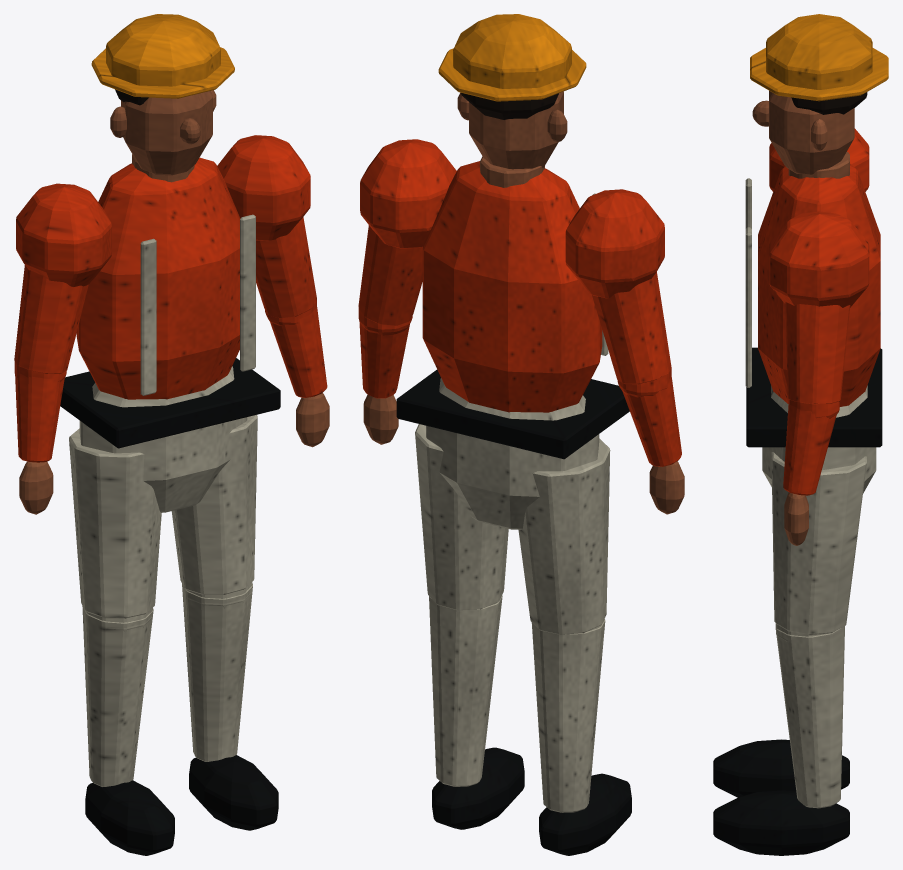
File: PROP-E46F27058B0F_lod1.glb
3 views of the same model, side by side, from view 1: azimuth 30°, elevation 25°; view 2: azimuth 150°, elevation 25°; view 3: azimuth 270°, elevation 25° (orthographic). The views are drawn at different scales.
Parts seen in each view (by area): view 1: torso.034, thigh.033, calf.033, shoulder.034, upper_arm.034, shoe.033, belt.033, pelvis.033, hardhat.010, forearm.034, head.033, vest_reflective_tape.010 (+4 smaller); view 2: torso.034, thigh.033, calf.033, shoulder.034, upper_arm.034, pelvis.033, shoe.033, belt.033, hardhat.010, forearm.034, head.033, hand.033 (+5 smaller); view 3: torso.034, thigh.033, shoe.033, calf.033, shoulder.034, hardhat.010, upper_arm.034, belt.033, head.033, forearm.034, hardhat_brim.010, pelvis.033 (+7 smaller).
Part boxes in pixels (x1,y1,x2,y2): torso.034: [76, 157, 240, 399]; thigh.033: [69, 414, 257, 618]; calf.033: [82, 583, 252, 786]; shoulder.034: [16, 135, 310, 286]; upper_arm.034: [14, 217, 316, 373]; shoe.033: [85, 755, 278, 855]; belt.033: [60, 358, 280, 448]; pelvis.033: [79, 366, 247, 512]; hardhat.010: [106, 14, 220, 86]; forearm.034: [15, 307, 327, 462]; head.033: [121, 91, 212, 175]; vest_reflective_tape.010: [140, 214, 255, 395]; torso.034: [422, 161, 602, 412]; thigh.033: [415, 424, 610, 634]; calf.033: [429, 595, 605, 812]; shoulder.034: [360, 139, 664, 298]; upper_arm.034: [358, 225, 671, 384]; pelvis.033: [426, 378, 599, 529]; shoe.033: [432, 747, 631, 855]; belt.033: [396, 369, 629, 459]; hardhat.010: [453, 14, 571, 88]; forearm.034: [359, 321, 681, 466]; head.033: [469, 91, 563, 169]; hand.033: [363, 394, 684, 514]; torso.034: [758, 163, 880, 406]; thigh.033: [771, 452, 866, 634]; shoe.033: [713, 739, 849, 855]; calf.033: [775, 623, 844, 808]; shoulder.034: [769, 128, 869, 307]; hardhat.010: [766, 14, 872, 89]; upper_arm.034: [785, 302, 850, 403]; belt.033: [746, 347, 882, 447]; head.033: [769, 91, 854, 174]; forearm.034: [783, 404, 836, 495]; hardhat_brim.010: [750, 48, 888, 101]; pelvis.033: [762, 385, 876, 493].
Bounding box in the file's own units: 0.7126 × 1.77 × 0.3486.
Materials: 6 (6 with a texture image).
